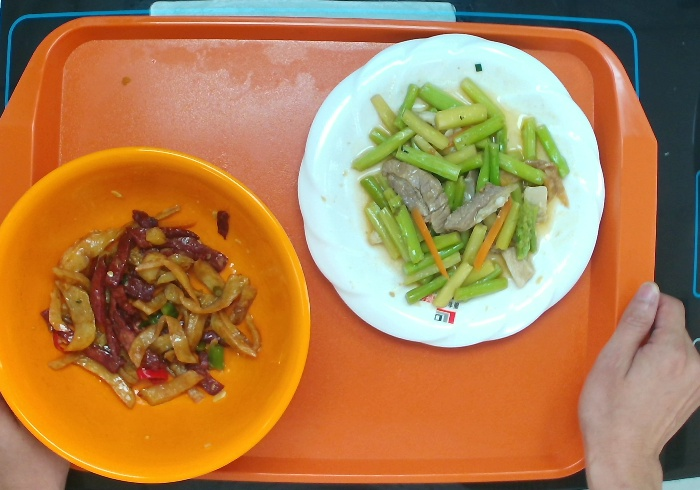ZNLD-Hua_Bian_Wan: (296, 31, 607, 352)
ZNLD-Ju_Se_Tang_Wan: (1, 144, 315, 490)
